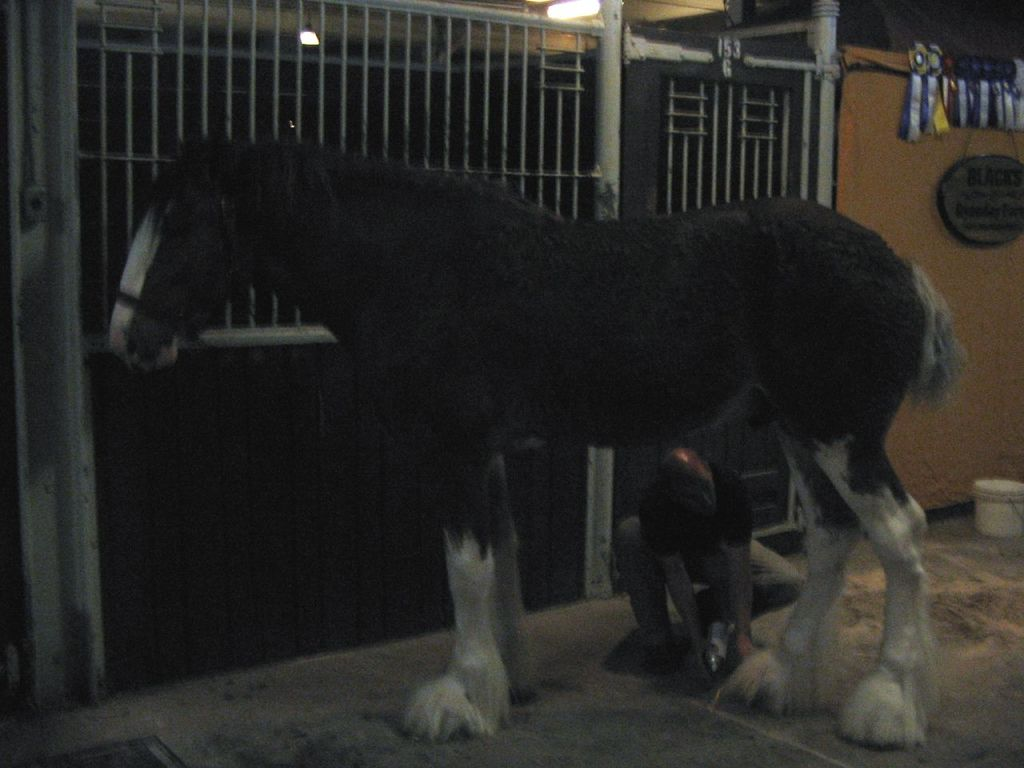horse: (103, 144, 973, 747)
